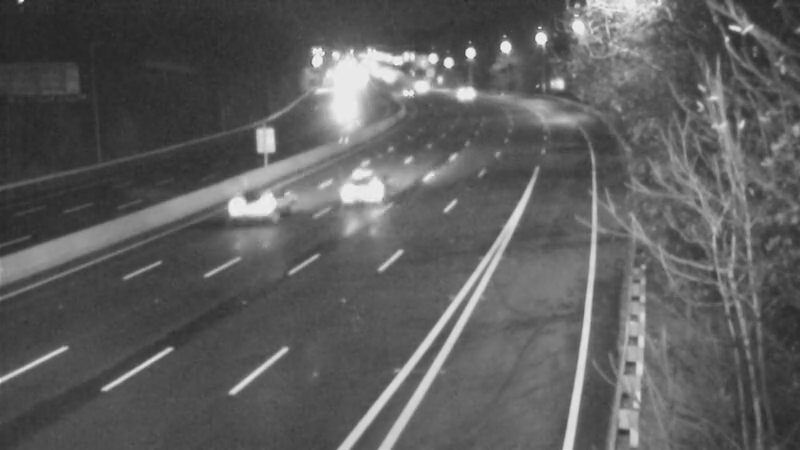vehicle: (322, 148, 402, 228), (221, 152, 301, 232), (383, 67, 433, 117), (434, 72, 484, 122)
